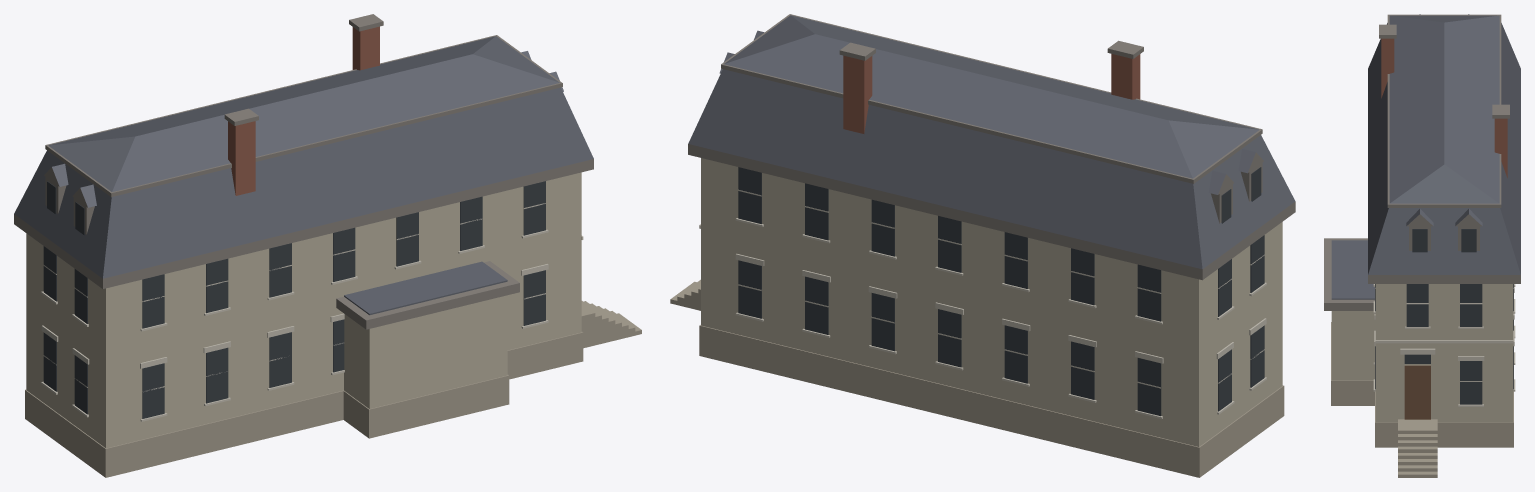
Rendered from house_1727_indiana__draft_1904.glb.
The picture shows the model from 3 angles, left to right: view 1: azimuth 30°, elevation 25°; view 2: azimuth 150°, elevation 25°; view 3: azimuth 270°, elevation 25°; orthographic projection. The views are drawn at different scales.
Parts seen in each view (by area): view 1: house_1727_indiana__draft_1904; view 2: house_1727_indiana__draft_1904; view 3: house_1727_indiana__draft_1904.
Part boxes in pixels (x1=…): house_1727_indiana__draft_1904: x1=14, y1=14, x2=641, y2=477; house_1727_indiana__draft_1904: x1=670, y1=14, x2=1295, y2=477; house_1727_indiana__draft_1904: x1=1324, y1=14, x2=1520, y2=477.
Bounding box in the file's own units: 25.15 × 13.91 × 8.95.
